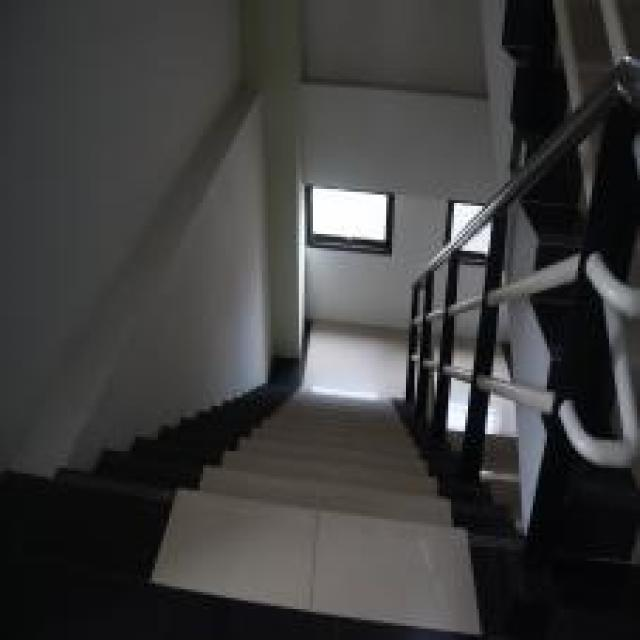downstair: (173, 356, 415, 638)
